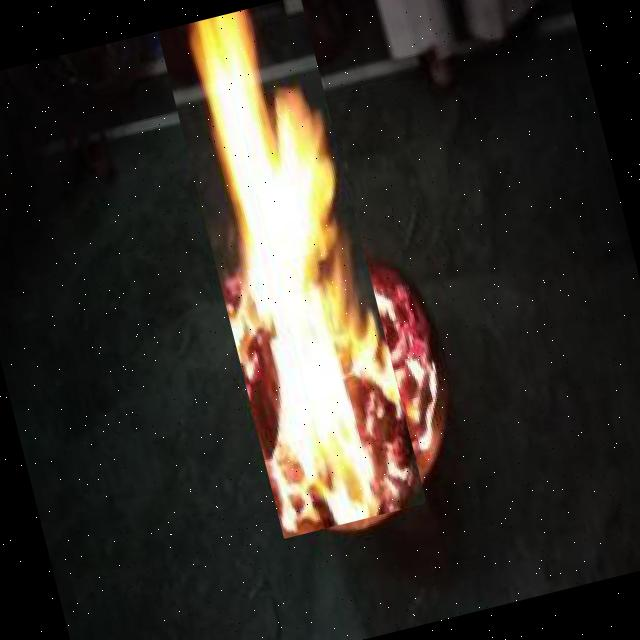fire: (157, 0, 426, 538)
